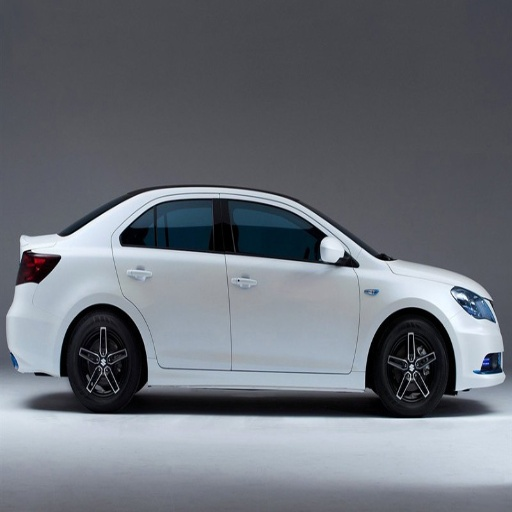back_right_door: (112, 196, 228, 369)
front_right_door: (223, 197, 361, 371)
